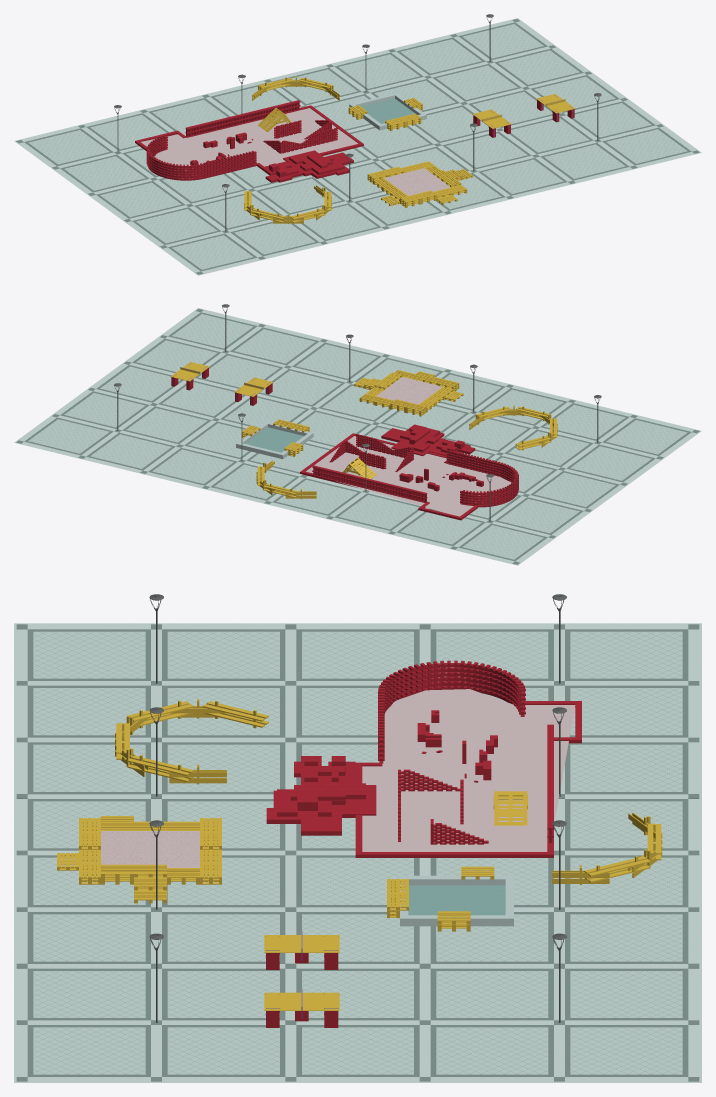
3 renders of one model, top to bottom at view 1: azimuth 30°, elevation 25°; view 2: azimuth 150°, elevation 25°; view 3: azimuth 270°, elevation 25°, orthographic. The views are drawn at different scales.
Visible parts, largest first — view 1: square 1 component, object 6, Shape Bender Component#1, object 1, object 2, object 4; view 2: square 1 component, object 6, Shape Bender Component#1, object 1, object 2, object 4; view 3: square 1 component, object 6, object 2, Shape Bender Component#1, object 1, object 4.
Boxes of the visible parts, <box> form: square 1 component: <box>16,19,699,274</box>; object 6: <box>14,18,701,275</box>; Shape Bender Component#1: <box>114,14,601,231</box>; object 1: <box>244,76,575,223</box>; object 2: <box>141,108,450,195</box>; object 4: <box>361,98,414,123</box>; square 1 component: <box>16,309,699,564</box>; object 6: <box>14,308,701,565</box>; Shape Bender Component#1: <box>114,304,601,521</box>; object 1: <box>170,362,557,499</box>; object 2: <box>306,377,511,516</box>; object 4: <box>245,427,303,452</box>; square 1 component: <box>16,624,699,1081</box>; object 6: <box>14,623,701,1082</box>; object 2: <box>101,689,575,867</box>; Shape Bender Component#1: <box>149,594,581,1027</box>; object 1: <box>57,699,662,1010</box>; object 4: <box>408,885,505,915</box>.
Bounding box in the file's own units: 1.8 × 0.172 × 1.14.
Materials: 8 (8 with a texture image).
